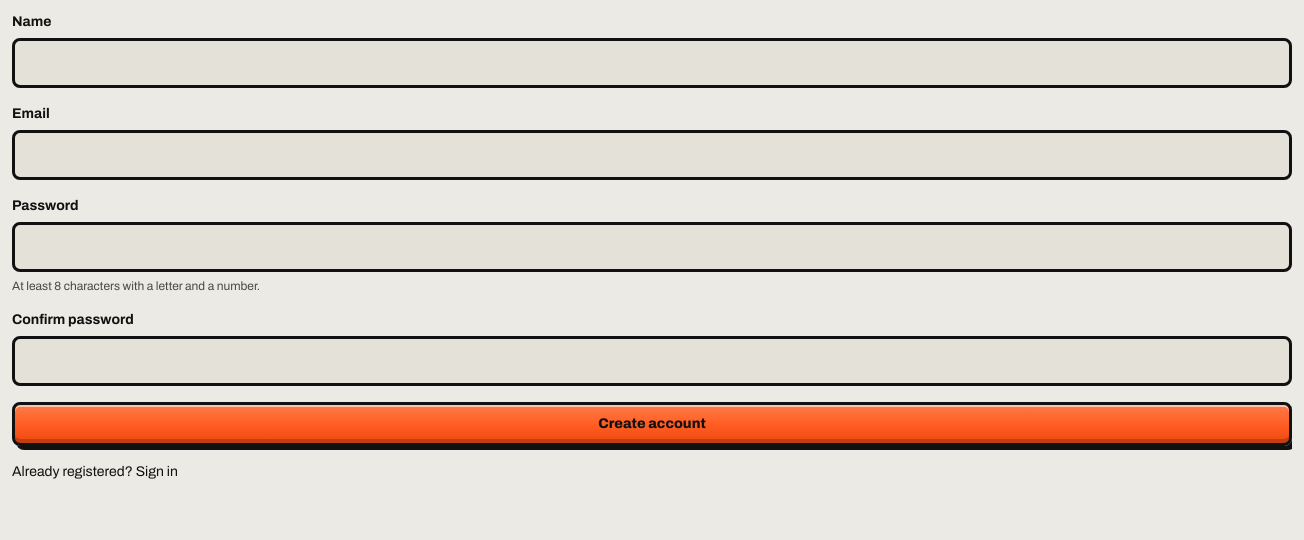
Test case: RegisterForm › blocks submission and explains every invalid field without calling the API
Click the button "Create account". click: point(652, 424)
box: left=12, top=402, right=1292, bottom=446
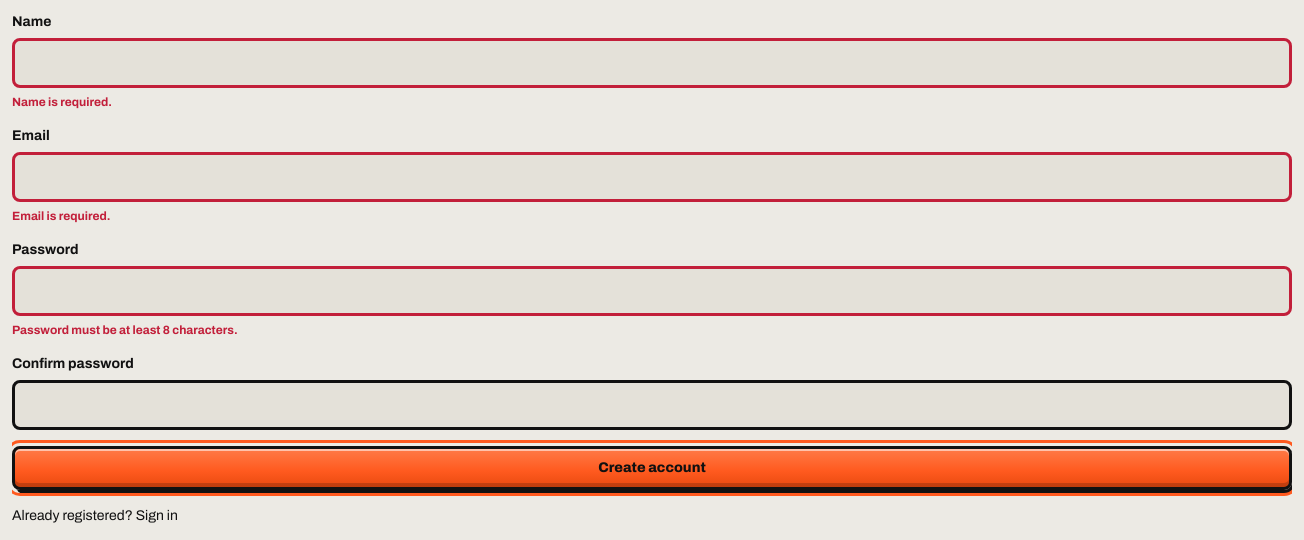
Check: the text "Name is required." is shown, box left=12, top=95, right=112, bottom=109
Check: the text "Email is required." is shown, box left=12, top=209, right=110, bottom=223
Check: the text "Password must be at least 8 characters." is shown, box left=12, top=323, right=238, bottom=337
